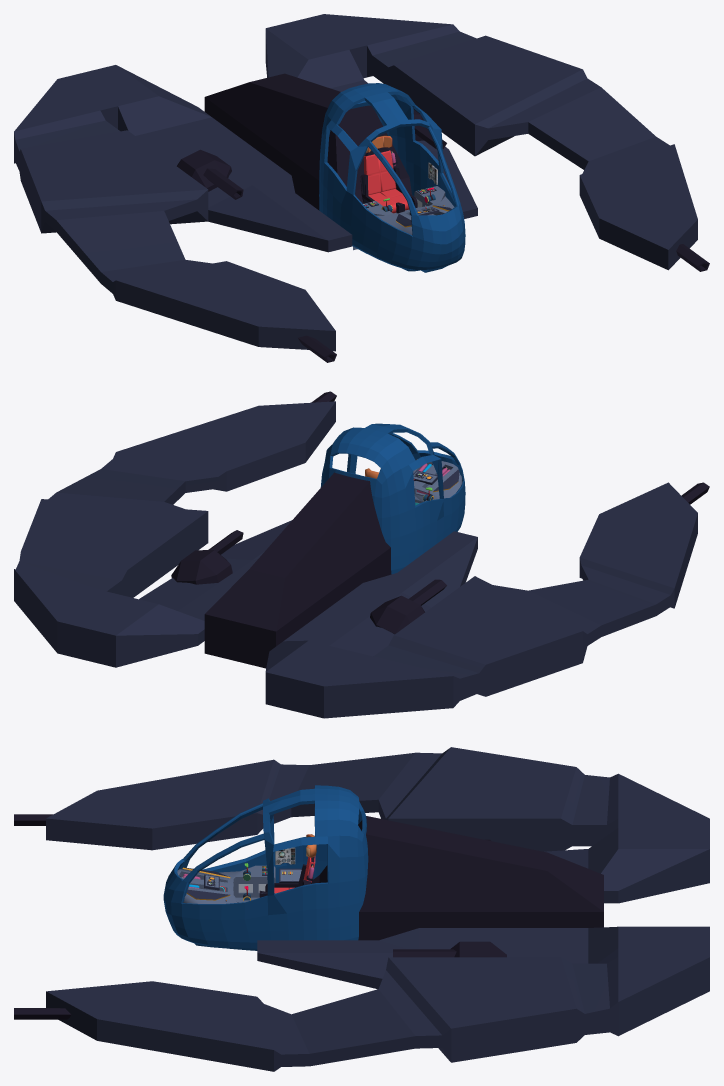
The model's file is cockpit_vr.glb.
The picture shows the model from 3 angles, top to bottom: view 1: azimuth 30°, elevation 25°; view 2: azimuth 150°, elevation 25°; view 3: azimuth 270°, elevation 25°; orthographic projection. The views are drawn at different scales.
Visible parts, largest first — view 1: ship_15, Cube_0, Cube.001_1, Cube.004_14; view 2: ship_15, Cube_0, Cube.004_14; view 3: ship_15, Cube_0, Cube.004_14, Cube.001_1.
Boxes of the visible parts, box(x1,y1,x2,y2) form: ship_15: box(14, 14, 709, 362); Cube_0: box(319, 83, 465, 272); Cube.001_1: box(360, 147, 417, 213); Cube.004_14: box(353, 186, 454, 250); ship_15: box(14, 391, 709, 718); Cube_0: box(320, 423, 465, 574); Cube.004_14: box(413, 459, 462, 505); ship_15: box(14, 747, 709, 1071); Cube_0: box(163, 785, 368, 950); Cube.004_14: box(177, 865, 275, 903); Cube.001_1: box(259, 856, 315, 897).
Bounding box in the file's own units: 17.18 × 3.98 × 17.39.
Materials: 11 (3 with a texture image).
